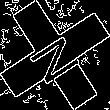N_NE: (23, 25, 87, 85)
